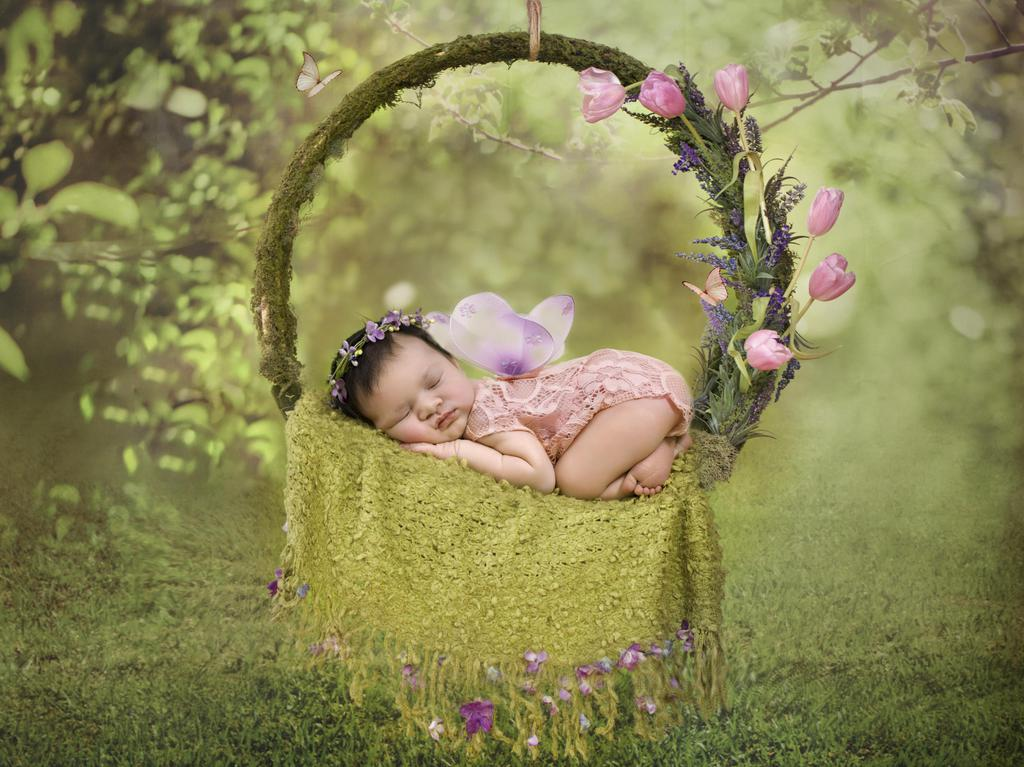child: (323, 294, 722, 516)
